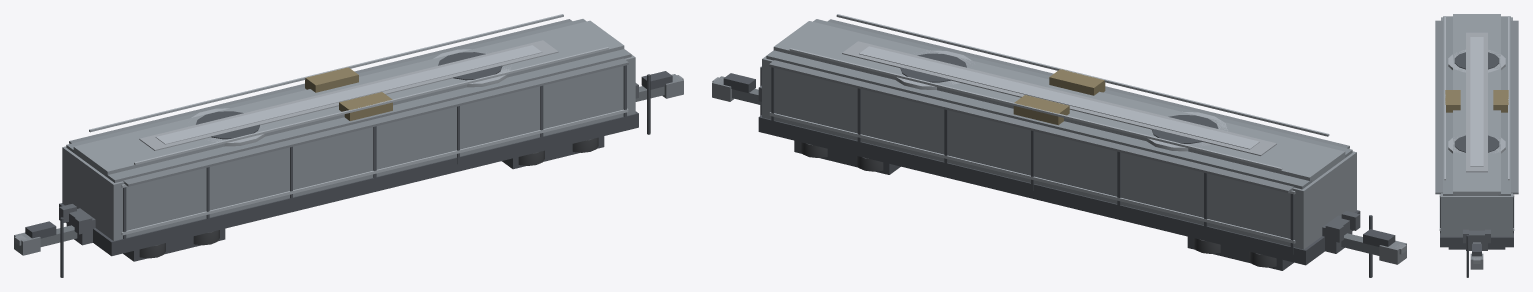
File: weapon.glb
The picture shows the model from 3 angles, left to right: view 1: azimuth 30°, elevation 25°; view 2: azimuth 150°, elevation 25°; view 3: azimuth 270°, elevation 25°; orthographic projection. The views are drawn at different scales.
Visible parts, largest first — view 1: weapon; view 2: weapon; view 3: weapon.
Part boxes in pixels (bbox=[...]): weapon: bbox=[14, 14, 683, 277]; weapon: bbox=[712, 14, 1406, 277]; weapon: bbox=[1435, 14, 1518, 277].
Size of the model in its own units: 24.68 by 3.98 by 3.82.
